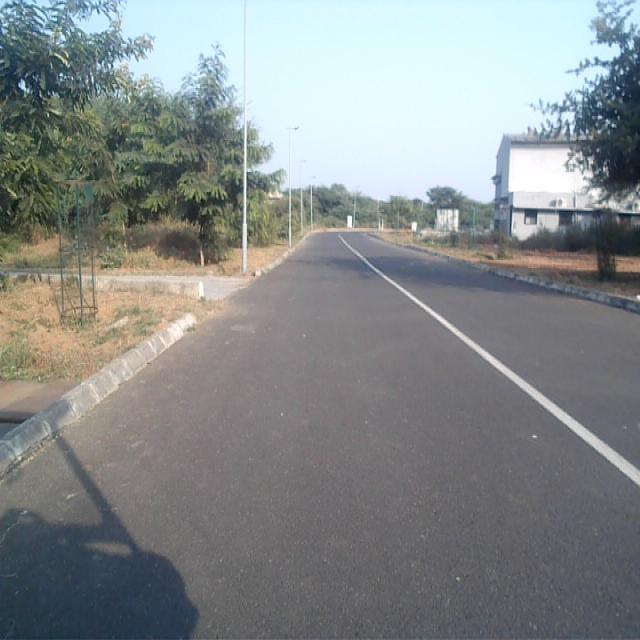lane: (0, 233, 640, 640)
